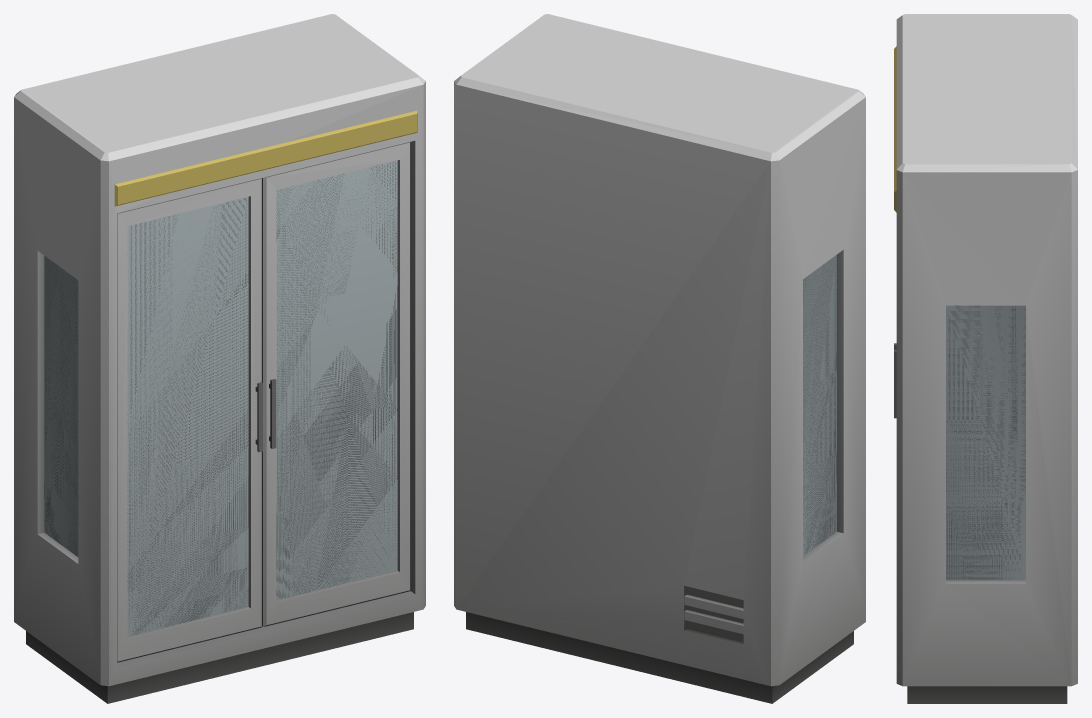
The model's file is gascab.glb.
3 views of the same model, side by side, from view 1: azimuth 30°, elevation 25°; view 2: azimuth 150°, elevation 25°; view 3: azimuth 270°, elevation 25° (orthographic). The views are drawn at different scales.
Visible parts, largest first — view 1: gascab; view 2: gascab; view 3: gascab.
Part boxes in pixels (x1,y1,x2,y2): gascab: [14, 14, 425, 703]; gascab: [454, 14, 865, 703]; gascab: [894, 14, 1077, 703].
Bounding box in the file's own units: 1.2 × 1.95 × 0.6.
